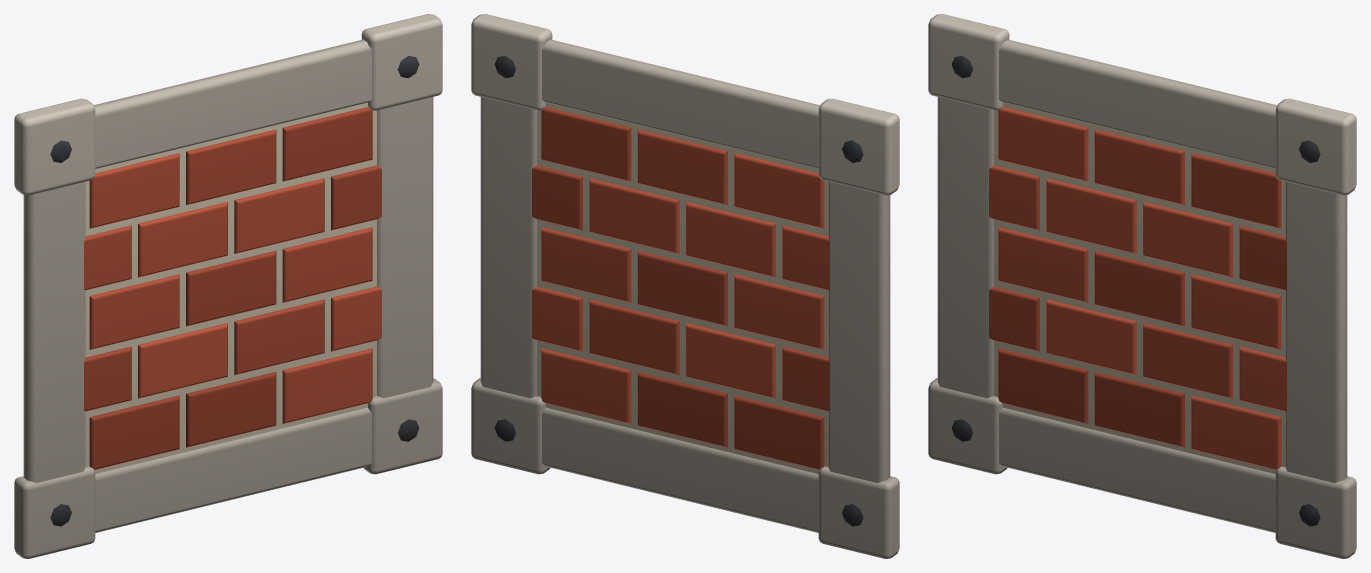
Rendered from wall_brick.glb.
3 views of the same model, side by side, from view 1: azimuth 30°, elevation 25°; view 2: azimuth 150°, elevation 25°; view 3: azimuth 330°, elevation 25° (orthographic).
Visible parts, largest first — view 1: wall_brick; view 2: wall_brick; view 3: wall_brick.
Boxes of the visible parts, bbox=[...] form: wall_brick: bbox=[14, 14, 442, 558]; wall_brick: bbox=[471, 14, 899, 558]; wall_brick: bbox=[928, 14, 1356, 558].
Bounding box in the file's own units: 4 × 4 × 0.25.
